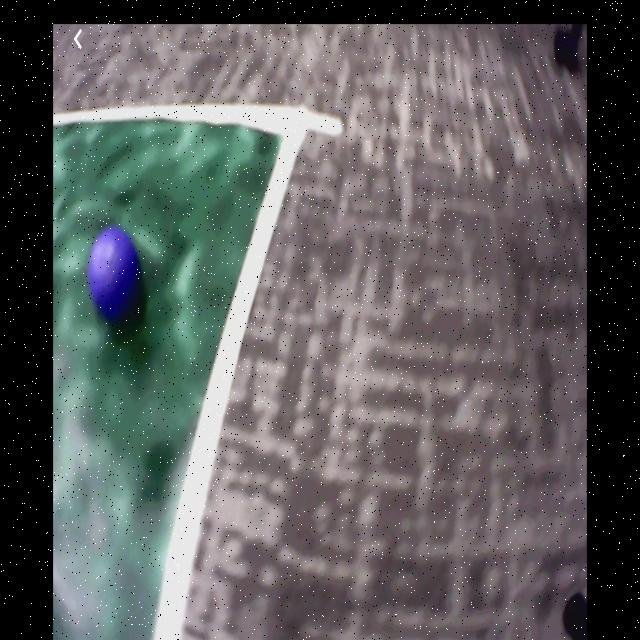ball: (91, 233, 141, 317)
